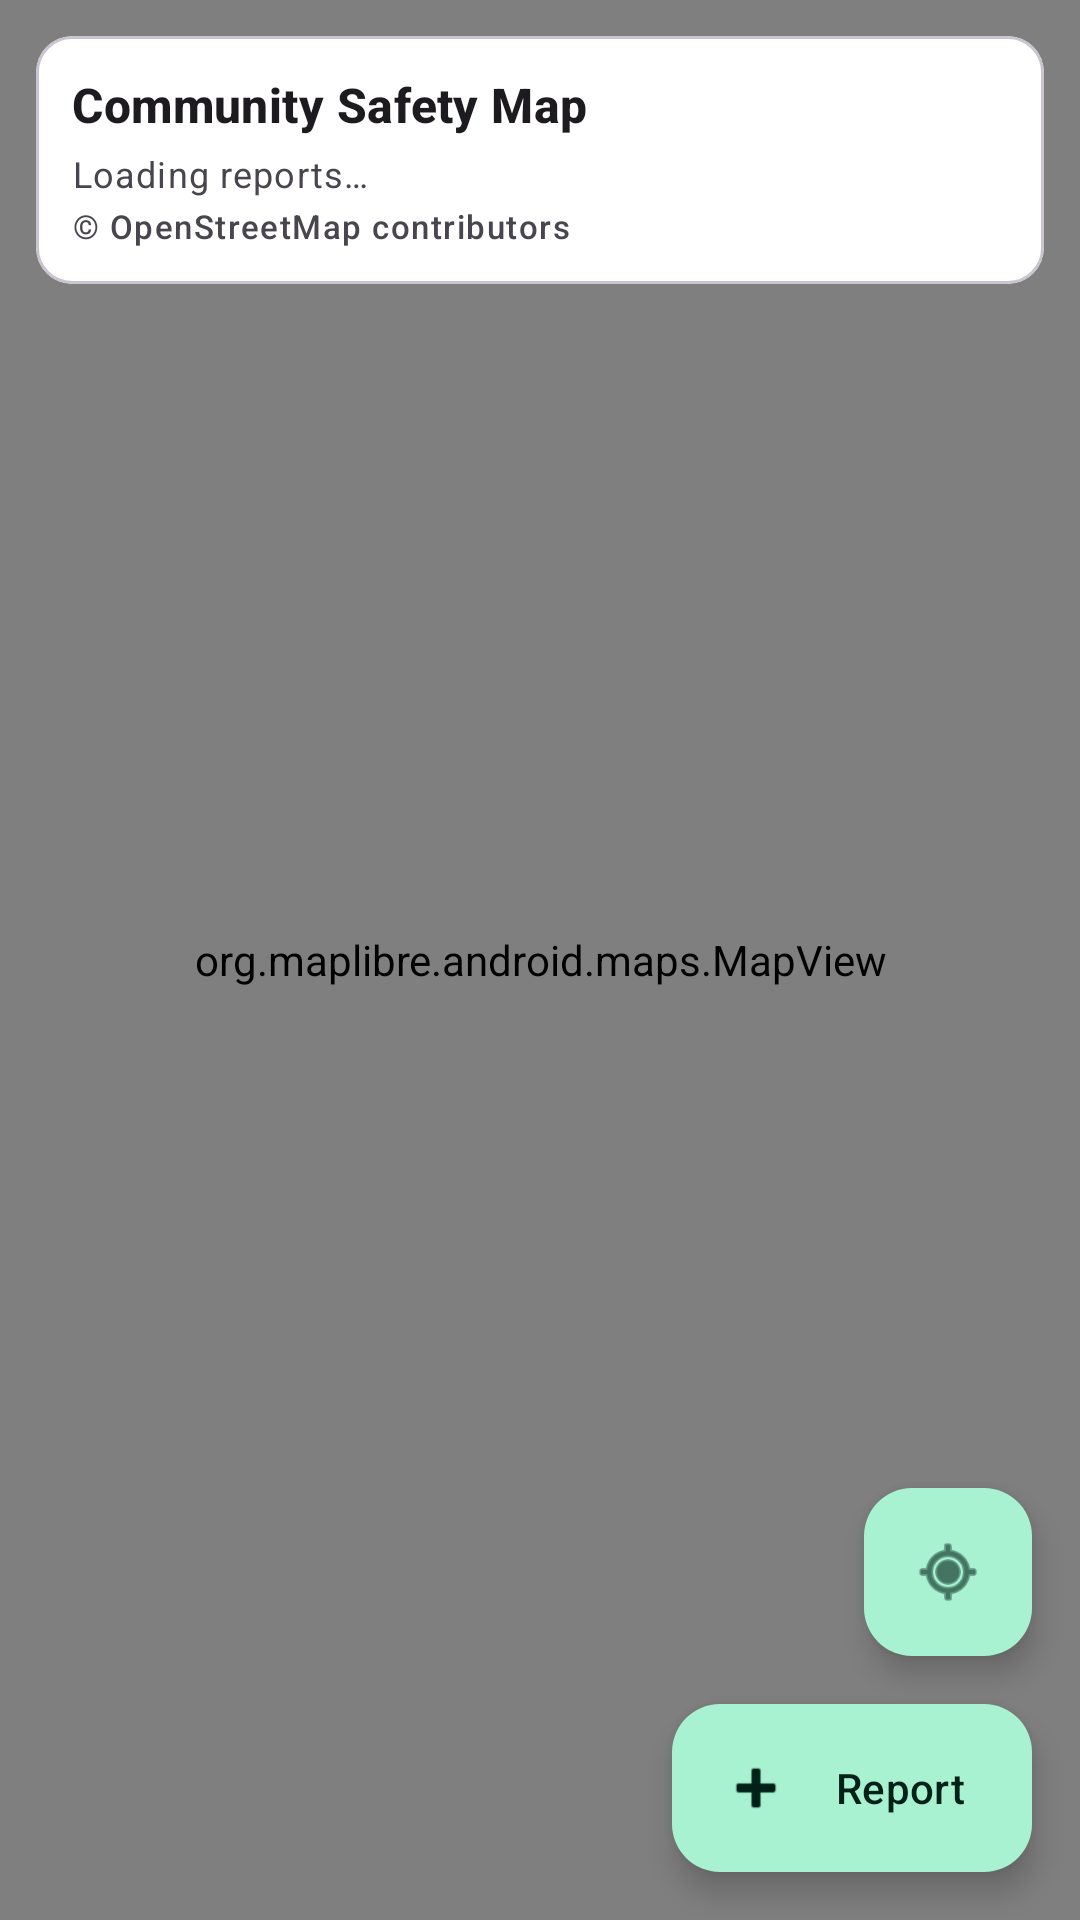

Named icons in this screenshot (1080px x 1920px) and their bounding boxes, (x1=x1, y1=y1, x2=x2, y2=y2):
My location: (x1=864, y1=1488, x2=1032, y2=1656)
